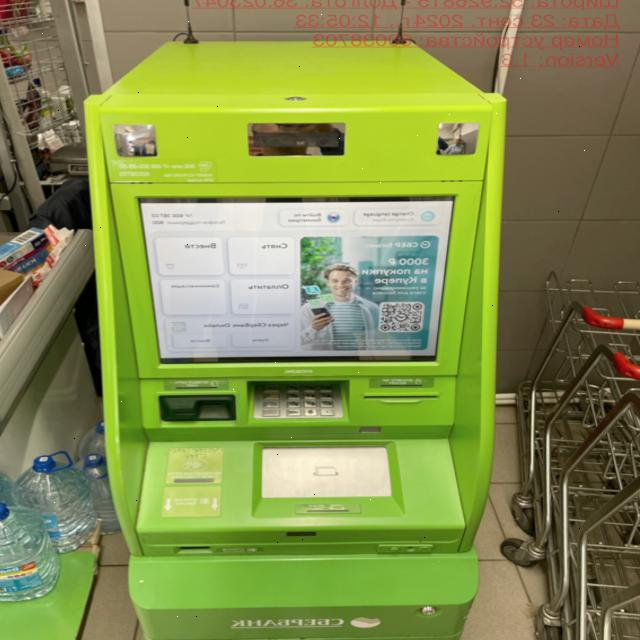bank: (90, 33, 515, 640)
